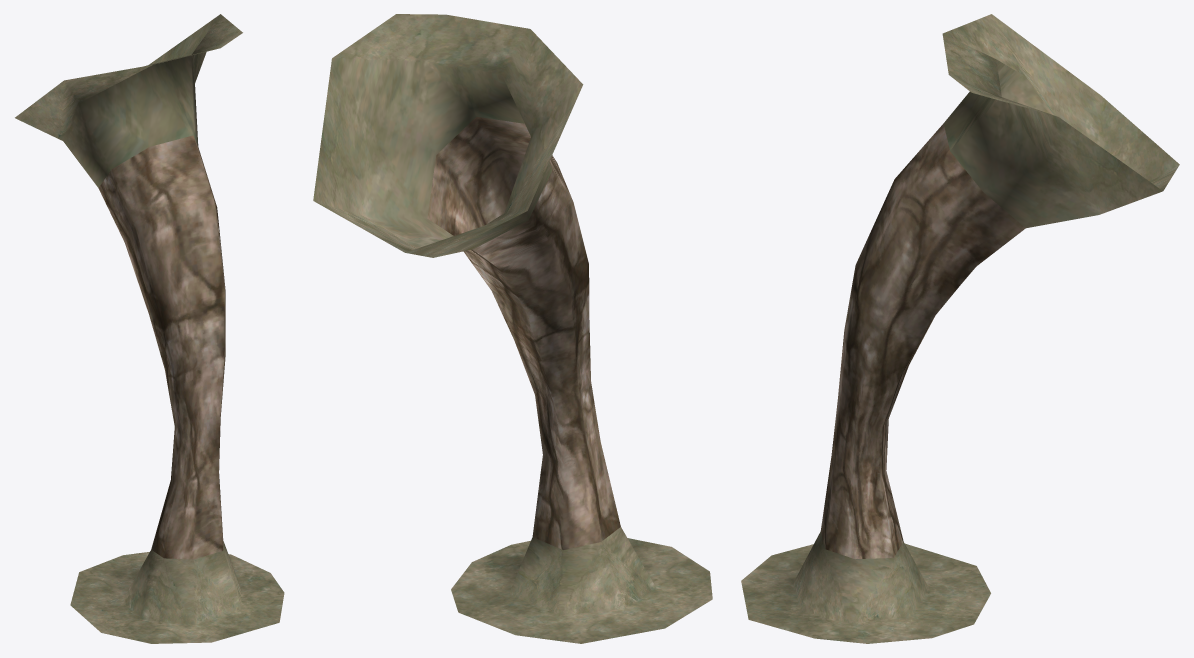
Rendered from EKH_GROTTO_PS_GR_PIL_484736__GX.fbx.
The picture shows the model from 3 angles, left to right: view 1: azimuth 30°, elevation 25°; view 2: azimuth 150°, elevation 25°; view 3: azimuth 270°, elevation 25°; orthographic projection. The views are drawn at different scales.
Parts seen in each view (by area): view 1: EKH_GROTTO_PS_GR_PIL_484736__GX; view 2: EKH_GROTTO_PS_GR_PIL_484736__GX; view 3: EKH_GROTTO_PS_GR_PIL_484736__GX.
Part boxes in pixels (x1,y1,x2,y2): EKH_GROTTO_PS_GR_PIL_484736__GX: [15, 14, 284, 643]; EKH_GROTTO_PS_GR_PIL_484736__GX: [313, 14, 712, 643]; EKH_GROTTO_PS_GR_PIL_484736__GX: [741, 14, 1179, 643].
Bounding box in the file's own units: 37677 × 81134 × 57150.
2 materials, 2 textured.
